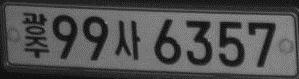3: (185, 19, 213, 65)
5: (218, 21, 245, 67)
6: (152, 19, 182, 65)
7: (248, 21, 276, 68)
9: (82, 15, 109, 61), (52, 13, 78, 59)
광주_V: (22, 11, 49, 58)
사: (114, 20, 141, 60)
